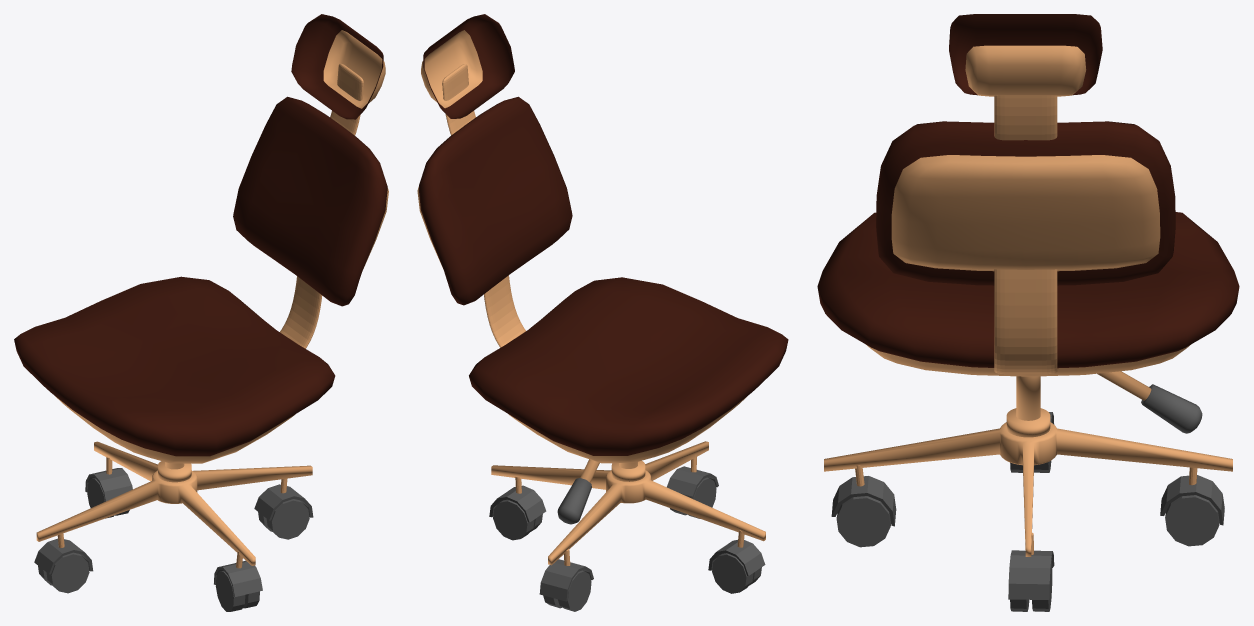
File: office-chair.glb
3 renders of one model, left to right at view 1: azimuth 30°, elevation 25°; view 2: azimuth 150°, elevation 25°; view 3: azimuth 270°, elevation 25°, orthographic. The views are drawn at different scales.
Size of the model in its own units: 0.3584 by 0.5095 by 0.3083.
